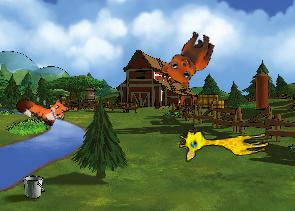bear: (157, 23, 218, 92)
fox: (13, 79, 75, 133)
giraffe: (177, 121, 270, 162)
